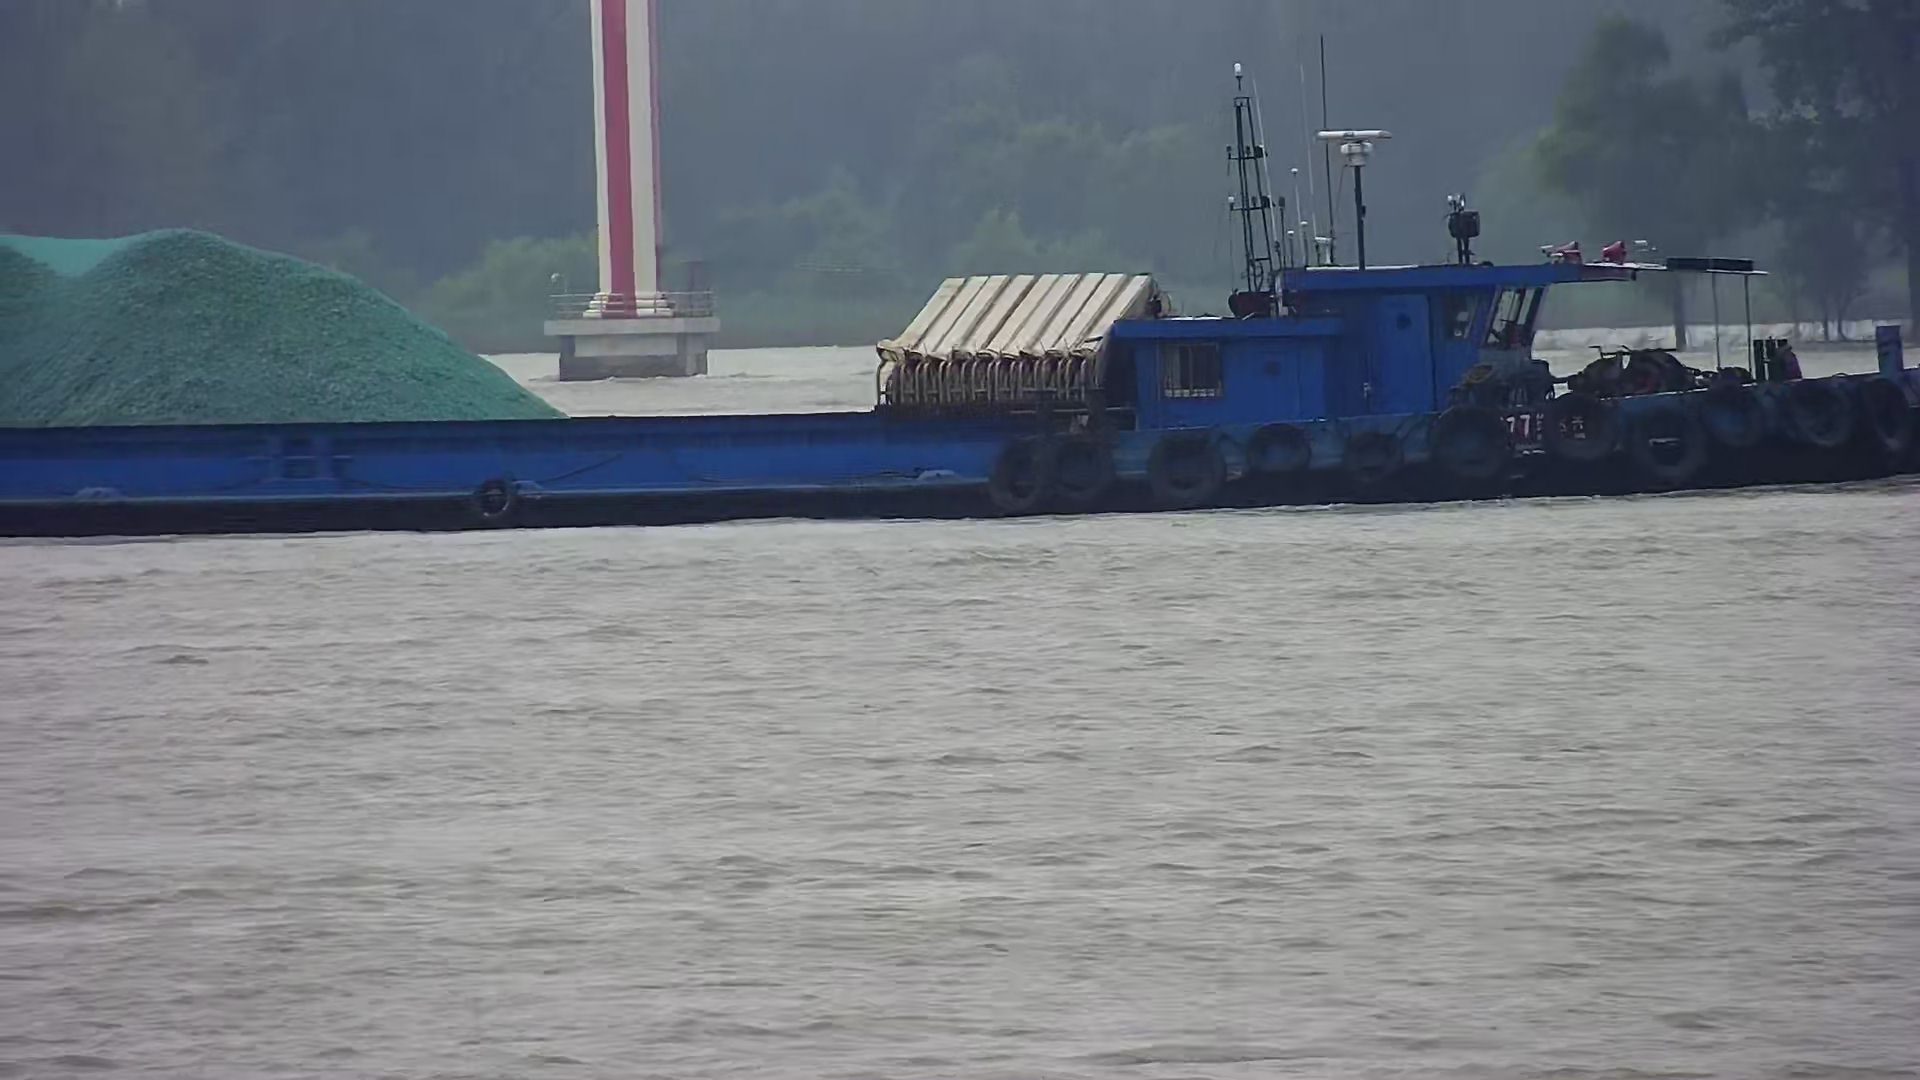platform: (539, 3, 719, 378)
ship: (1, 127, 1920, 535)
tree: (1534, 12, 1762, 349), (1734, 1, 1920, 348)
